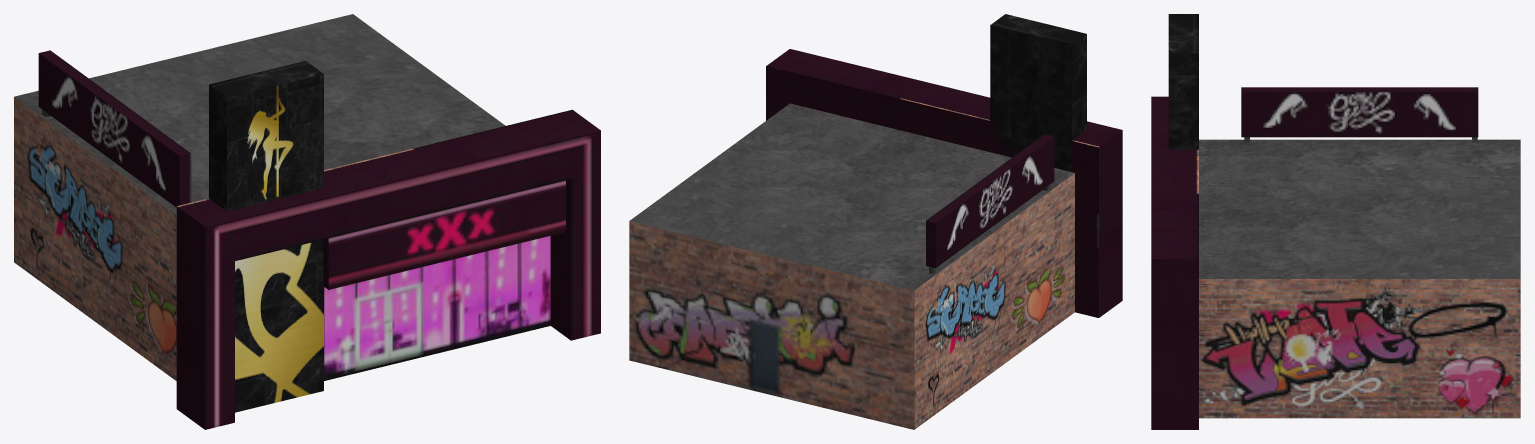
File: strip_club.fbx
3 renders of one model, left to right at view 1: azimuth 30°, elevation 25°; view 2: azimuth 150°, elevation 25°; view 3: azimuth 270°, elevation 25°, orthographic. The views are drawn at different scales.
Visible parts, largest first — view 1: strip_club; view 2: strip_club; view 3: strip_club.
Part boxes in pixels (x1,y1,x2,y2): strip_club: [14, 14, 600, 429]; strip_club: [629, 14, 1122, 429]; strip_club: [1151, 14, 1520, 429].
Bounding box in the file's own units: 1542 × 1180 × 1481.
1 material, 1 textured.
